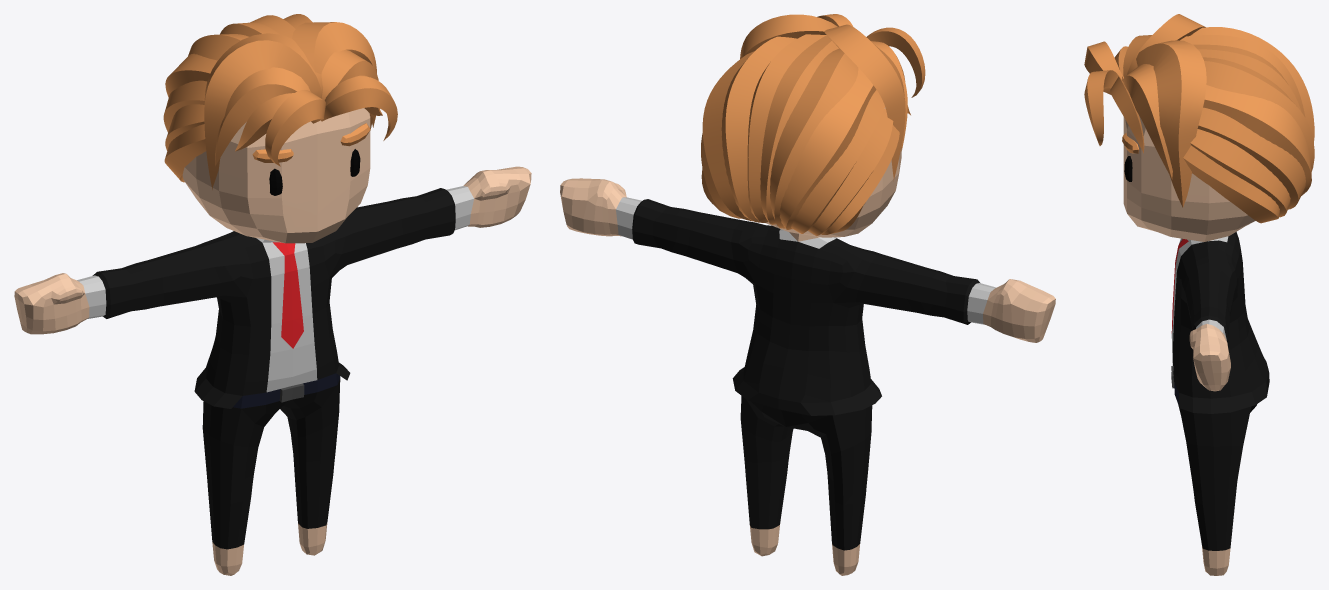
File: MALE_SUIT.fbx
The picture shows the model from 3 angles, left to right: view 1: azimuth 30°, elevation 25°; view 2: azimuth 150°, elevation 25°; view 3: azimuth 270°, elevation 25°; orthographic projection. The views are drawn at different scales.
Parts seen in each view (by area): view 1: Body; view 2: Body; view 3: Body.
Part boxes in pixels (bbox=[...]): Body: bbox=[14, 14, 531, 575]; Body: bbox=[560, 14, 1055, 575]; Body: bbox=[1084, 14, 1314, 575].
Bounding box in the file's own units: 324 × 333 × 132.
